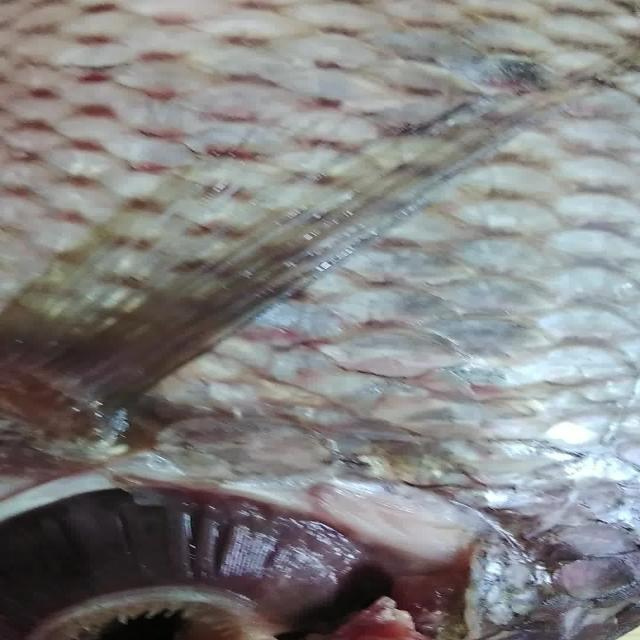Non-Fresh: (12, 466, 348, 640)
